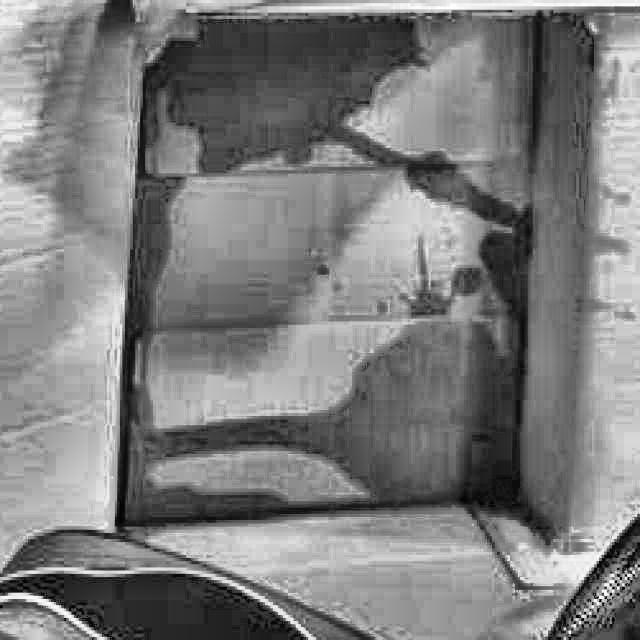box: (0, 0, 640, 640)
wet: (135, 338, 534, 511), (130, 10, 504, 174)
